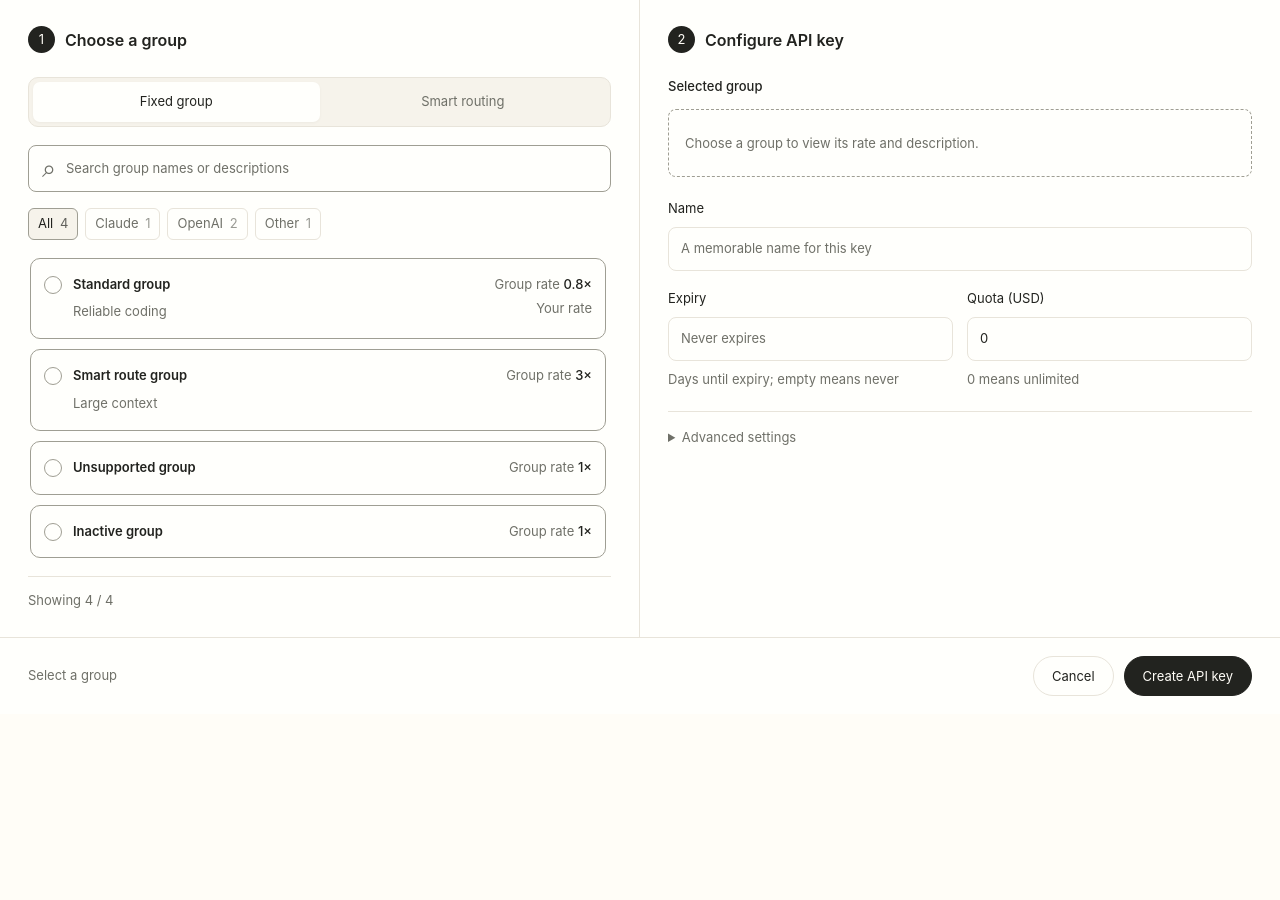
Test case: PortalKeyForm › uses searchable group cards, description search and provider filters with user-specific rates
The image size is (1280, 900).
Expected: the button "+ Standard group Reliable coding Group rate 0.8× Your rate" is shown, top-left (30, 258), bottom-right (606, 339)
Type "large context" into the search field named "Search groups" at point(332, 168), box top-left (66, 146), bottom-right (597, 191)
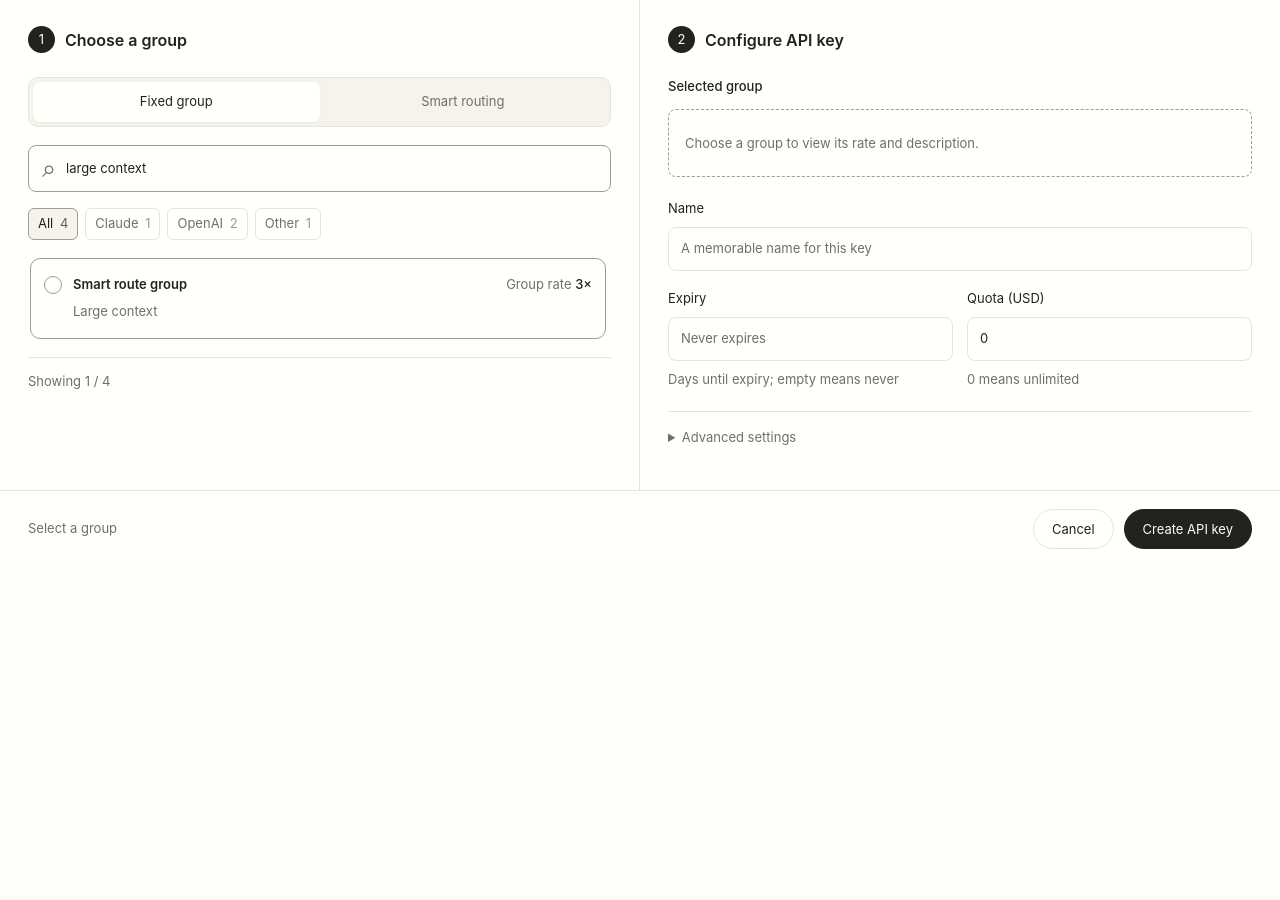
Expected: the button with class "key-group-card" shows "Smart route group", top-left (30, 258), bottom-right (606, 339)
Expected: the number of buttons with class "key-group-card" is 1, top-left (30, 258), bottom-right (606, 339)
Clear the search field named "Search groups" at point(332, 168), box top-left (66, 146), bottom-right (597, 191)
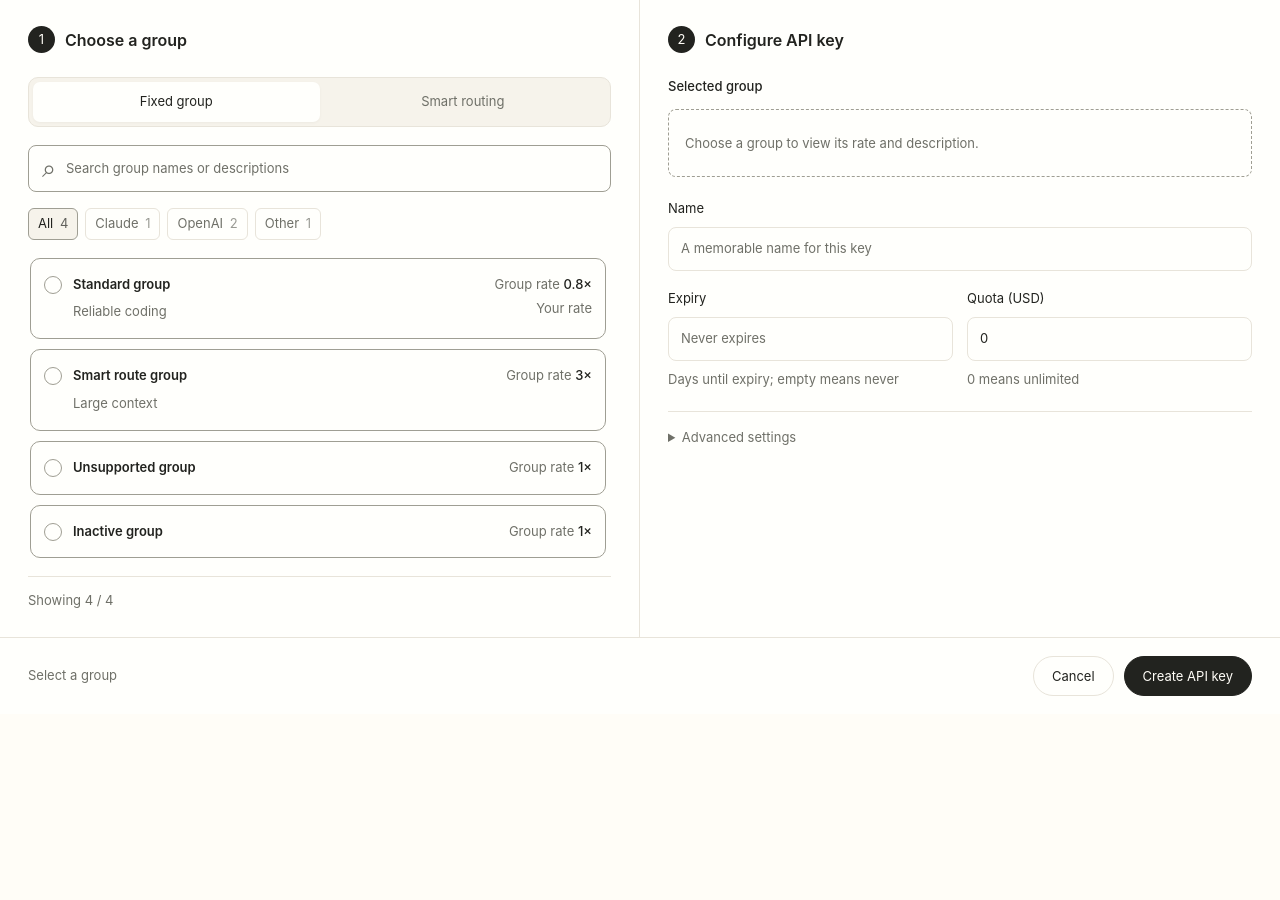
Click the button "OpenAI 2" at point(208, 224), box top-left (168, 208), bottom-right (248, 240)
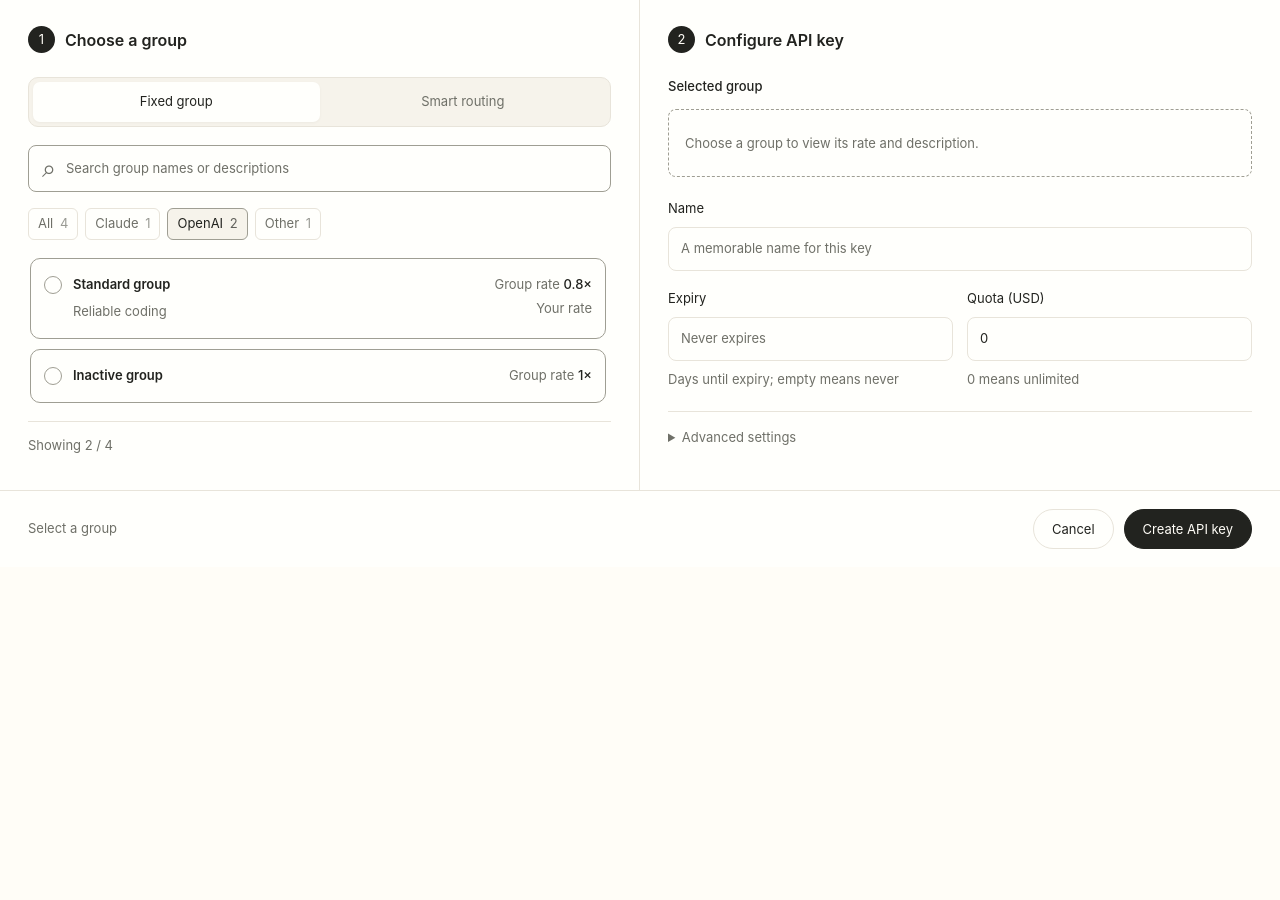
Click the button "+ Standard group Reliable coding Group rate 0.8× Your rate" at point(122, 284), box top-left (30, 258), bottom-right (606, 339)
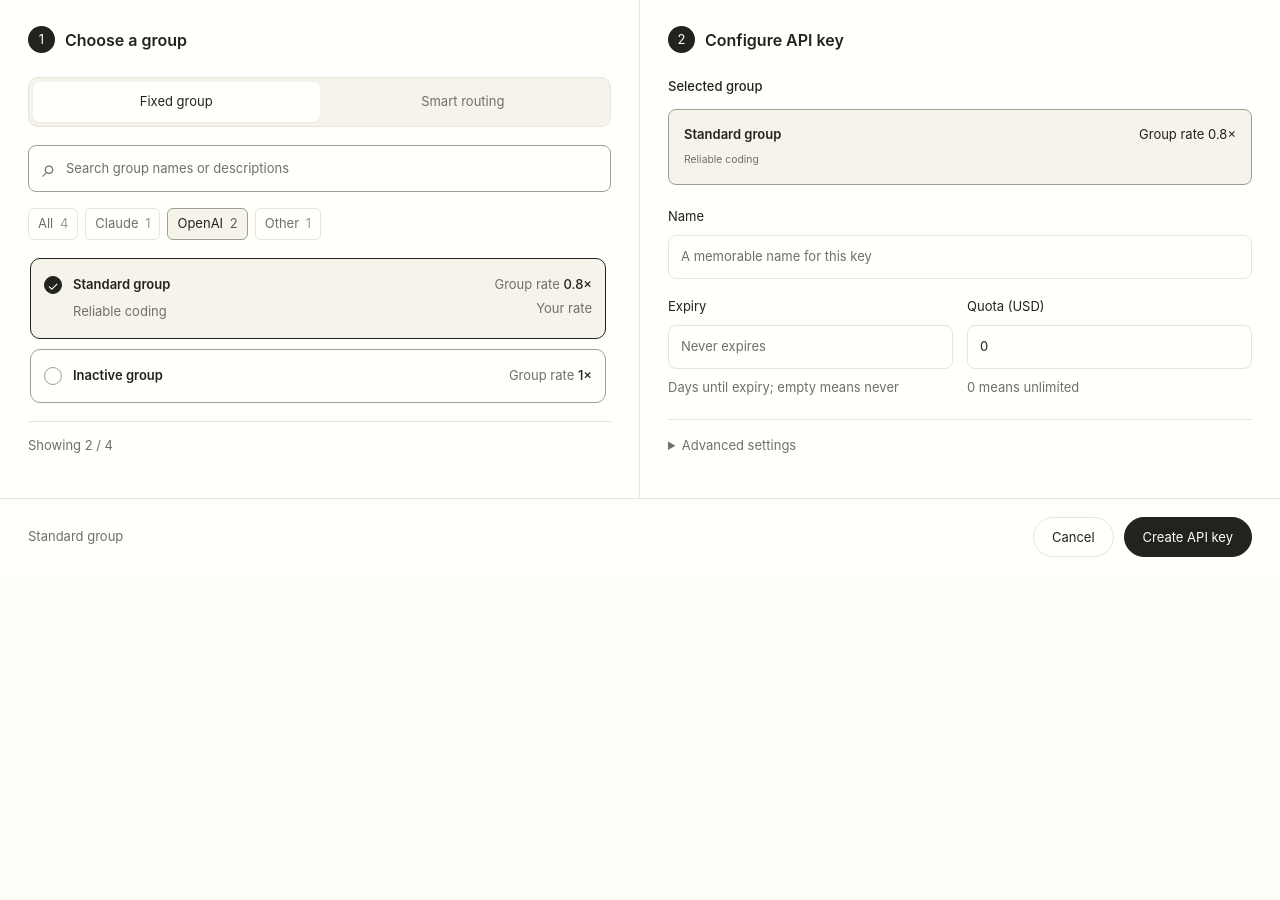
Expected: the element with class "key-common-fields" shows "Quota (USD)", top-left (967, 298), bottom-right (1045, 314)
Expected: the element with class "key-selected-summary" shows "0.8×", top-left (1139, 126), bottom-right (1236, 142)
